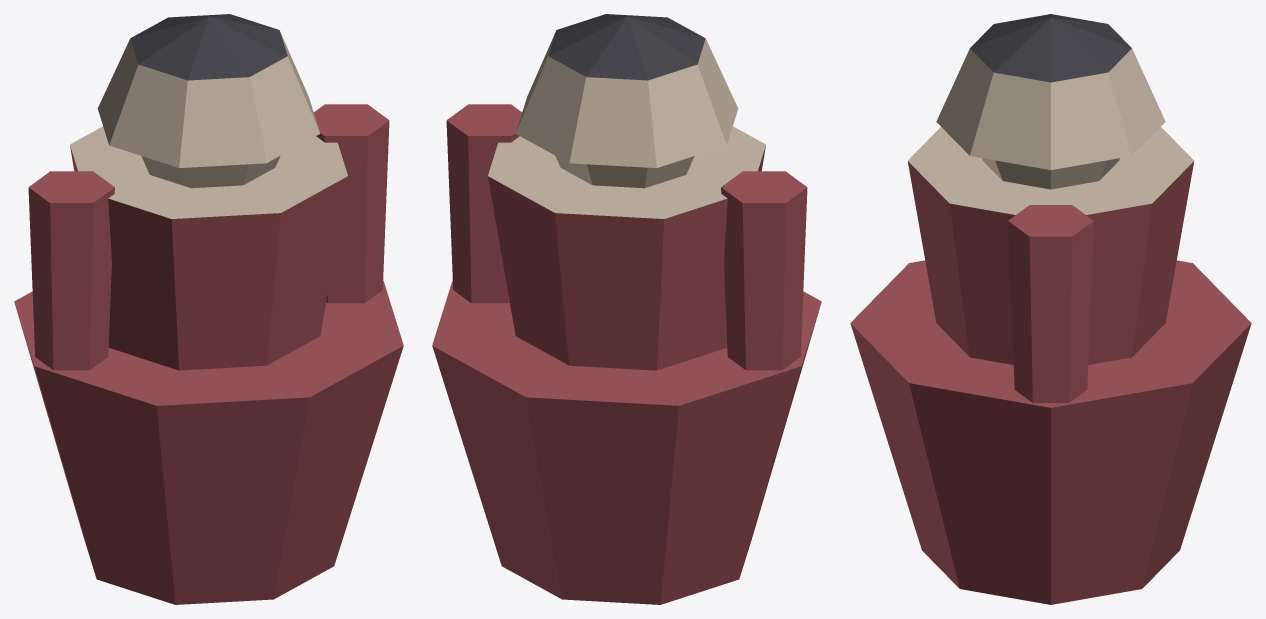
Rendered from follower_priest.glb.
The picture shows the model from 3 angles, left to right: view 1: azimuth 30°, elevation 25°; view 2: azimuth 150°, elevation 25°; view 3: azimuth 270°, elevation 25°; orthographic projection.
Parts seen in each view (by area): view 1: Follower; view 2: Follower; view 3: Follower.
Boxes of the visible parts, x1,y1,x2,y2 form: Follower: (14,14,403,604); Follower: (432,14,821,604); Follower: (850,14,1251,604).
Bounding box in the file's own units: 0.56 × 0.82 × 0.56.
